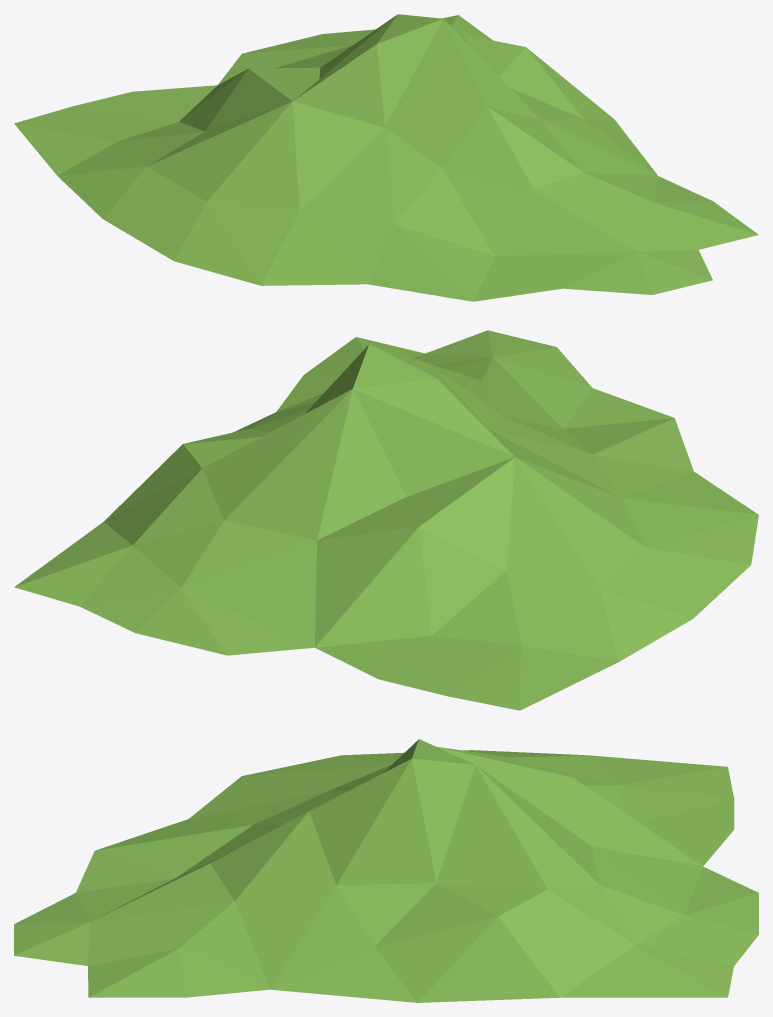
Rendered from MT_Mountain_S_a_13_LOD.fbx.
3 views of the same model, one above another, from view 1: azimuth 30°, elevation 25°; view 2: azimuth 150°, elevation 25°; view 3: azimuth 270°, elevation 25° (orthographic). The views are drawn at different scales.
Visible parts, largest first — view 1: MT_Mountain_S_a_13_LOD0; view 2: MT_Mountain_S_a_13_LOD0; view 3: MT_Mountain_S_a_13_LOD0.
Boxes of the visible parts, box(x1,y1,x2,y2) form: MT_Mountain_S_a_13_LOD0: box(14, 14, 758, 301); MT_Mountain_S_a_13_LOD0: box(14, 330, 758, 710); MT_Mountain_S_a_13_LOD0: box(14, 739, 758, 1002).
Size of what is drawn, in the model's own units: 1880 by 535 by 2344.
